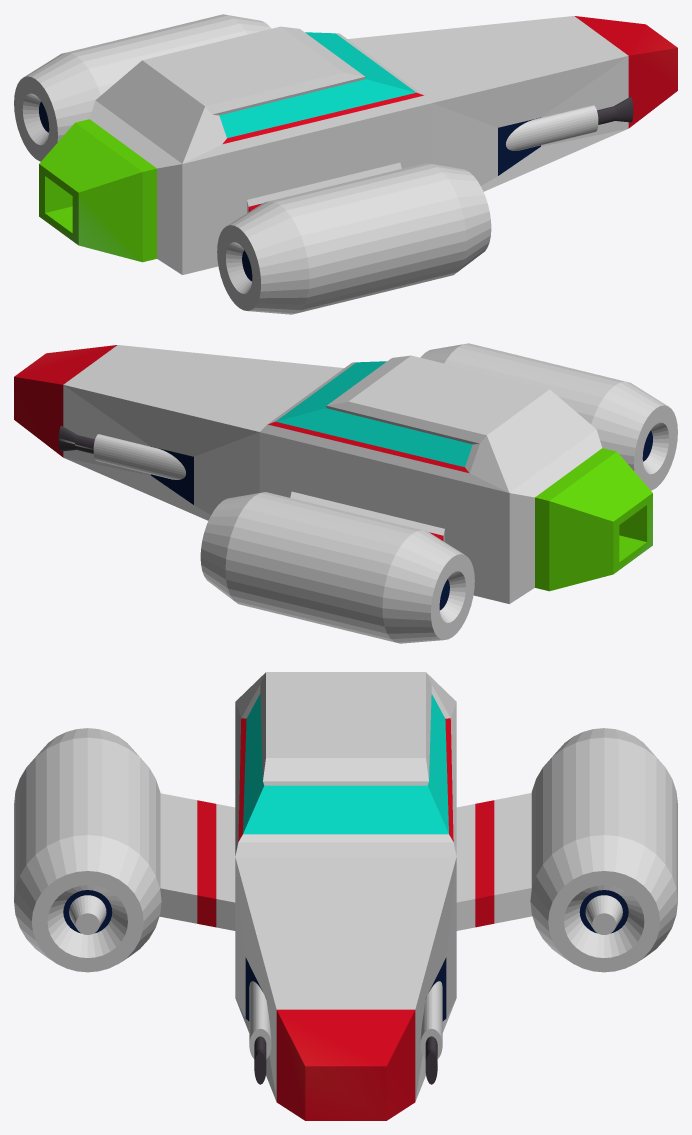
The model's file is RealShip.fbx.
3 renders of one model, top to bottom at view 1: azimuth 30°, elevation 25°; view 2: azimuth 150°, elevation 25°; view 3: azimuth 270°, elevation 25°, orthographic. The views are drawn at different scales.
Parts seen in each view (by area): view 1: Cube; view 2: Cube; view 3: Cube.
Part boxes in pixels (box(x1,y1,x2,y2)): Cube: box(14, 14, 677, 314); Cube: box(14, 343, 677, 643); Cube: box(14, 672, 677, 1120).
Size of the model in its own units: 12 by 2.93 by 9.
